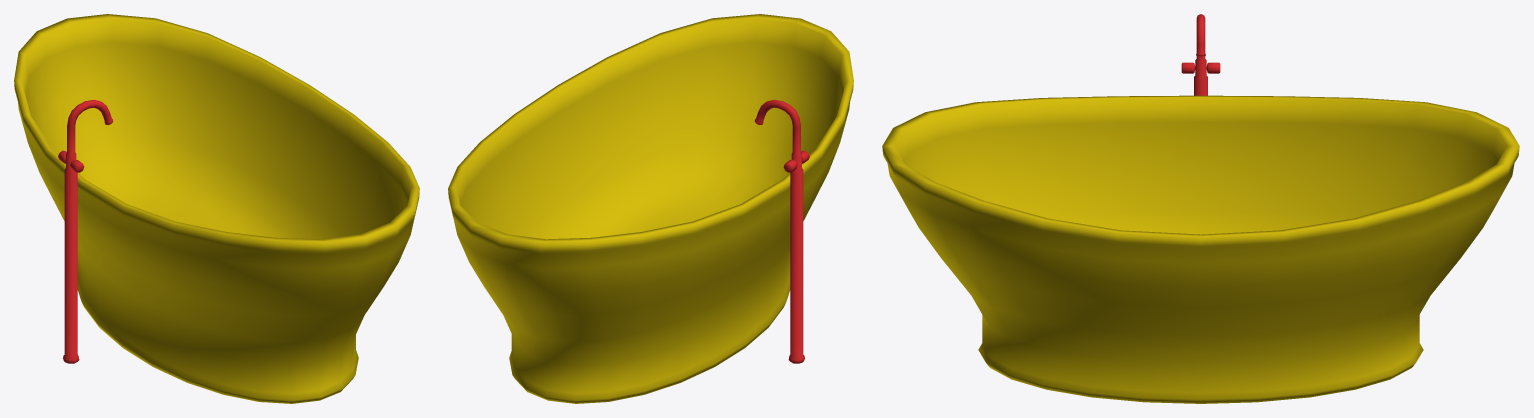
The model's file is bathroom_bathtub.fbx.
3 views of the same model, side by side, from view 1: azimuth 30°, elevation 25°; view 2: azimuth 150°, elevation 25°; view 3: azimuth 270°, elevation 25° (orthographic). The views are drawn at different scales.
Visible parts, largest first — view 1: HSHP_MOD_Bathtub; view 2: HSHP_MOD_Bathtub; view 3: HSHP_MOD_Bathtub.
Part boxes in pixels (x1,y1,x2,y2): HSHP_MOD_Bathtub: (14, 14, 419, 403); HSHP_MOD_Bathtub: (448, 14, 853, 403); HSHP_MOD_Bathtub: (882, 14, 1519, 403).
Size of the model in its own units: 39.77 by 33.53 by 71.22.
